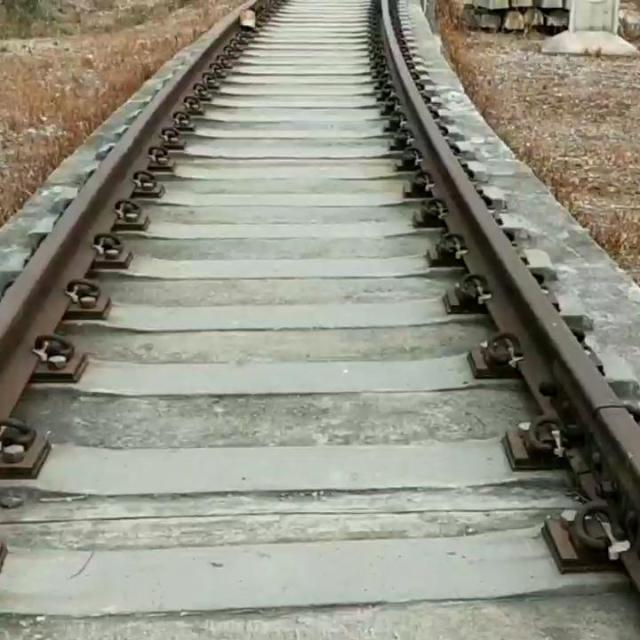rail: (382, 0, 640, 553), (1, 0, 256, 420)
